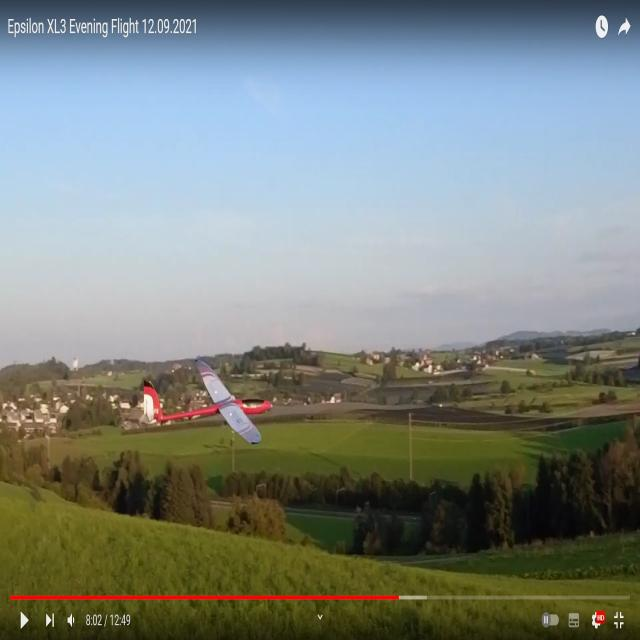iha: (133, 390, 263, 418)
